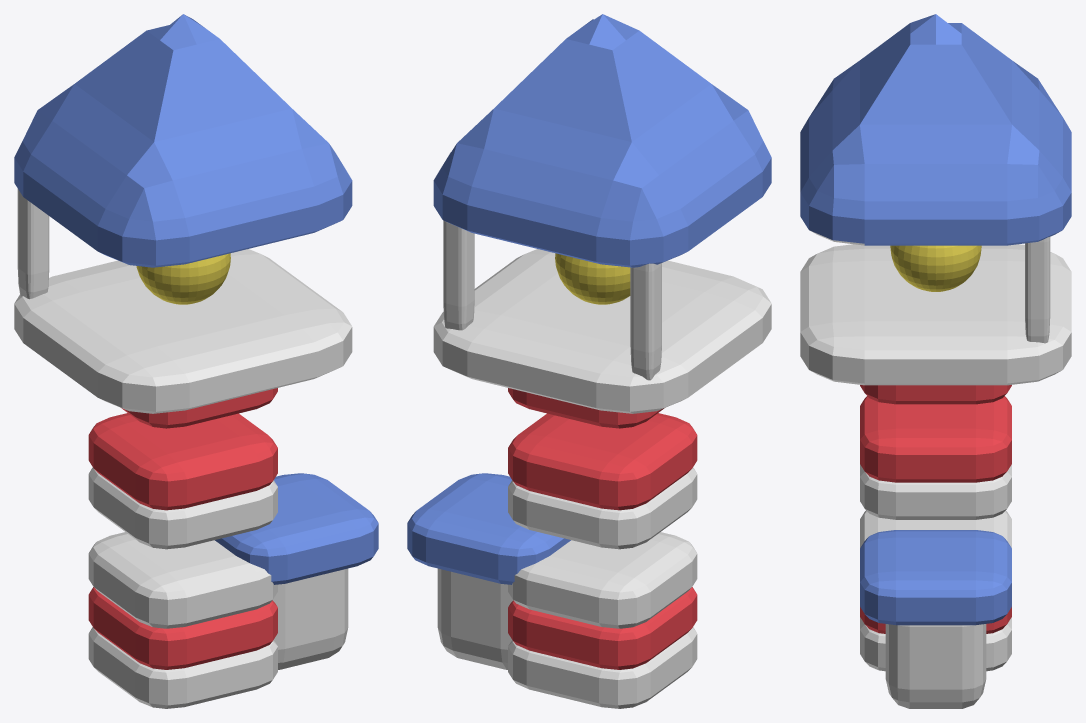
Rendered from LightHouseMiddle.fbx.
3 views of the same model, side by side, from view 1: azimuth 30°, elevation 25°; view 2: azimuth 150°, elevation 25°; view 3: azimuth 270°, elevation 25° (orthographic). The views are drawn at different scales.
Parts seen in each view (by area): view 1: Cube.009, Cube.008, Cube.005, Cube.002, Cube.015, Cube.001, Cube.004, Cube, Cube.014, Sphere, Cube.013, Cube.007; view 2: Cube.009, Cube.008, Cube.005, Cube.002, Cube.015, Cube.001, Cube.004, Cube, Cube.014, Cube.013, Cube.012, Sphere (+1 smaller); view 3: Cube.009, Cube.008, Cube.015, Cube.005, Cube.014, Cube.004, Sphere, Cube.007, Cube.012, Cube.002, Cube, Cube.001.
Part boxes in pixels (x1=…): Cube.009: x1=14, y1=14, x2=352, y2=267; Cube.008: x1=14, y1=249, x2=352, y2=413; Cube.005: x1=88, y1=413, x2=277, y2=510; Cube.002: x1=88, y1=532, x2=277, y2=628; Cube.015: x1=215, y1=473, x2=378, y2=584; Cube.001: x1=88, y1=587, x2=277, y2=669; Cube.004: x1=88, y1=467, x2=277, y2=549; Cube: x1=88, y1=627, x2=277, y2=708; Cube.014: x1=272, y1=568, x2=348, y2=669; Sphere: x1=136, y1=253, x2=230, y2=304; Cube.013: x1=17, y1=189, x2=49, y2=299; Cube.007: x1=121, y1=388, x2=277, y2=428; Cube.009: x1=433, y1=14, x2=771, y2=267; Cube.008: x1=433, y1=249, x2=771, y2=413; Cube.005: x1=508, y1=413, x2=697, y2=510; Cube.002: x1=508, y1=532, x2=697, y2=628; Cube.015: x1=407, y1=473, x2=570, y2=584; Cube.001: x1=508, y1=587, x2=697, y2=669; Cube.004: x1=508, y1=467, x2=697, y2=549; Cube: x1=508, y1=627, x2=697, y2=708; Cube.014: x1=437, y1=568, x2=513, y2=669; Cube.013: x1=630, y1=263, x2=661, y2=380; Cube.012: x1=443, y1=220, x2=474, y2=330; Sphere: x1=555, y1=253, x2=630, y2=304; Cube.009: x1=800, y1=14, x2=1071, y2=245; Cube.008: x1=800, y1=244, x2=1071, y2=385; Cube.015: x1=860, y1=530, x2=1011, y2=625; Cube.005: x1=860, y1=396, x2=1011, y2=482; Cube.014: x1=885, y1=624, x2=986, y2=708; Cube.004: x1=860, y1=464, x2=1011, y2=519; Sphere: x1=890, y1=245, x2=981, y2=291; Cube.007: x1=860, y1=385, x2=1011, y2=404; Cube.012: x1=1025, y1=237, x2=1050, y2=343; Cube.002: x1=860, y1=510, x2=1011, y2=547; Cube: x1=860, y1=617, x2=1011, y2=671; Cube.001: x1=860, y1=607, x2=1011, y2=633.
Bounding box in the file's own units: 425 × 922 × 357.
